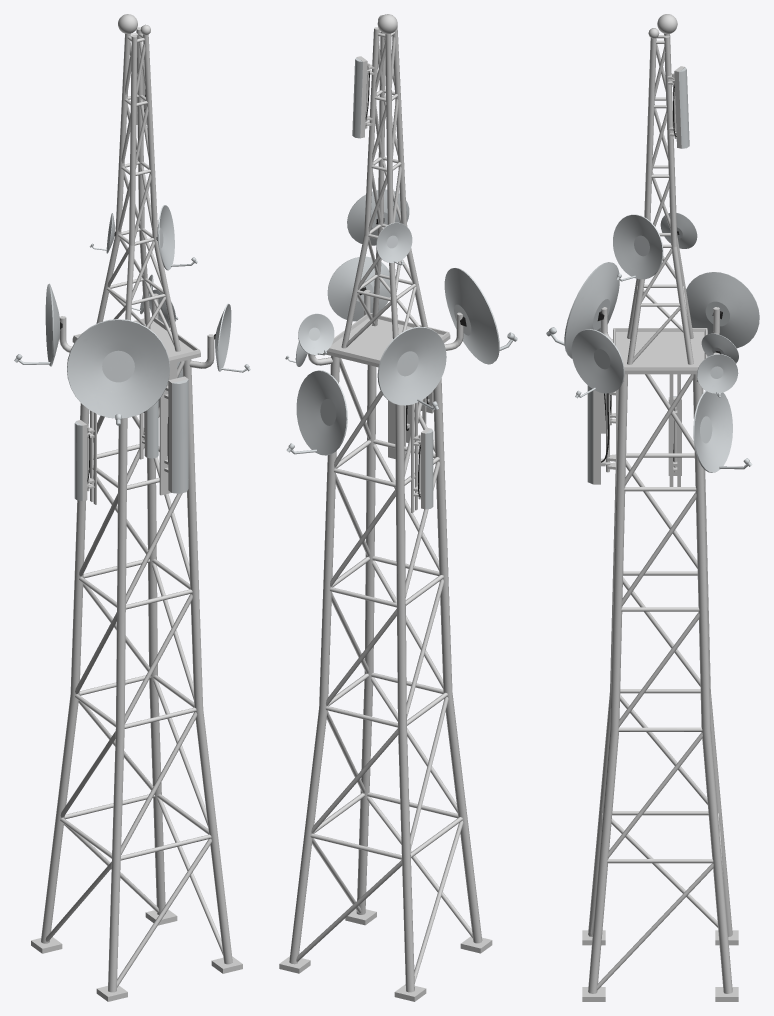
Rendered from KB3D_NTT_RooftopPart_A.fbx.
3 renders of one model, left to right at view 1: azimuth 30°, elevation 25°; view 2: azimuth 150°, elevation 25°; view 3: azimuth 270°, elevation 25°, orthographic.
Visible parts, largest first — view 1: KB3D_NTT_RooftopPart_A_Main; view 2: KB3D_NTT_RooftopPart_A_Main; view 3: KB3D_NTT_RooftopPart_A_Main.
Boxes of the visible parts, x1=… form: KB3D_NTT_RooftopPart_A_Main: x1=14, y1=14, x2=250, y2=1001; KB3D_NTT_RooftopPart_A_Main: x1=279, y1=14, x2=517, y2=1001; KB3D_NTT_RooftopPart_A_Main: x1=546, y1=14, x2=759, y2=1001.
Size of the model in its own units: 419 by 2254 by 458.
